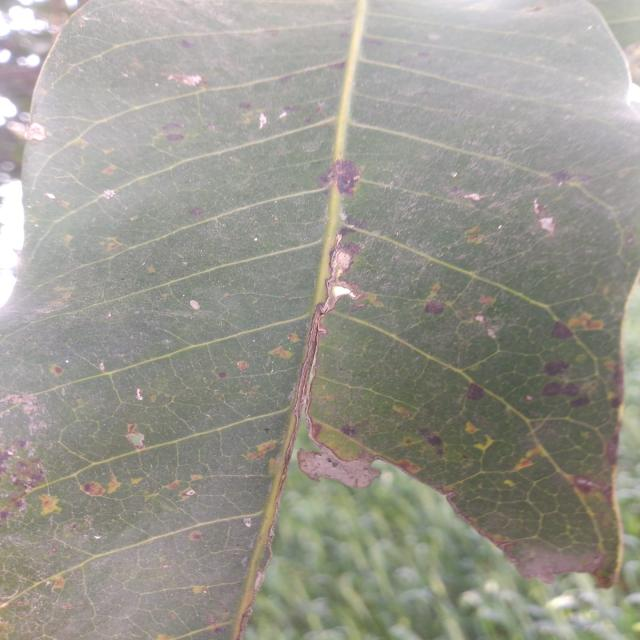Bacterial Cancer: (323, 250, 357, 306)
black die: (332, 165, 355, 189)
